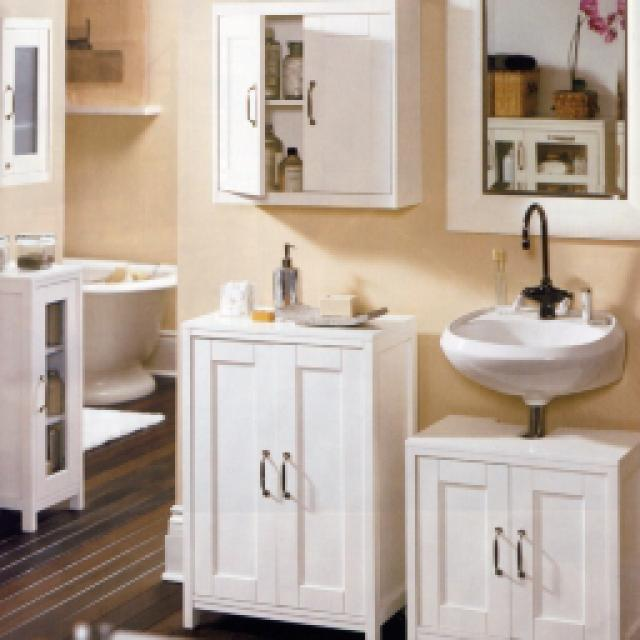bath: (62, 252, 175, 402)
bottle crop: (270, 240, 298, 315), (272, 142, 300, 190), (262, 25, 278, 92), (280, 38, 298, 95), (485, 248, 500, 302), (265, 122, 275, 188)
bouquet: (548, 0, 610, 110)
box contants: (482, 52, 538, 112)
cabinet door: (180, 302, 410, 635), (402, 412, 638, 635), (210, 0, 420, 205), (0, 258, 82, 532), (0, 268, 82, 530), (0, 18, 50, 185)
glass ceiling: (212, 278, 248, 315)
jar -X: (12, 230, 52, 270)
mirror crop: (445, 0, 638, 232)
rug -partially obscured-: (82, 405, 160, 450)
shelf crop: (65, 100, 162, 112)
sink basin: (440, 302, 622, 402)
sink occluded: (508, 200, 570, 312)
soap bottle: (318, 292, 350, 315), (245, 302, 275, 322)
soap dispenser: (298, 305, 382, 322)
